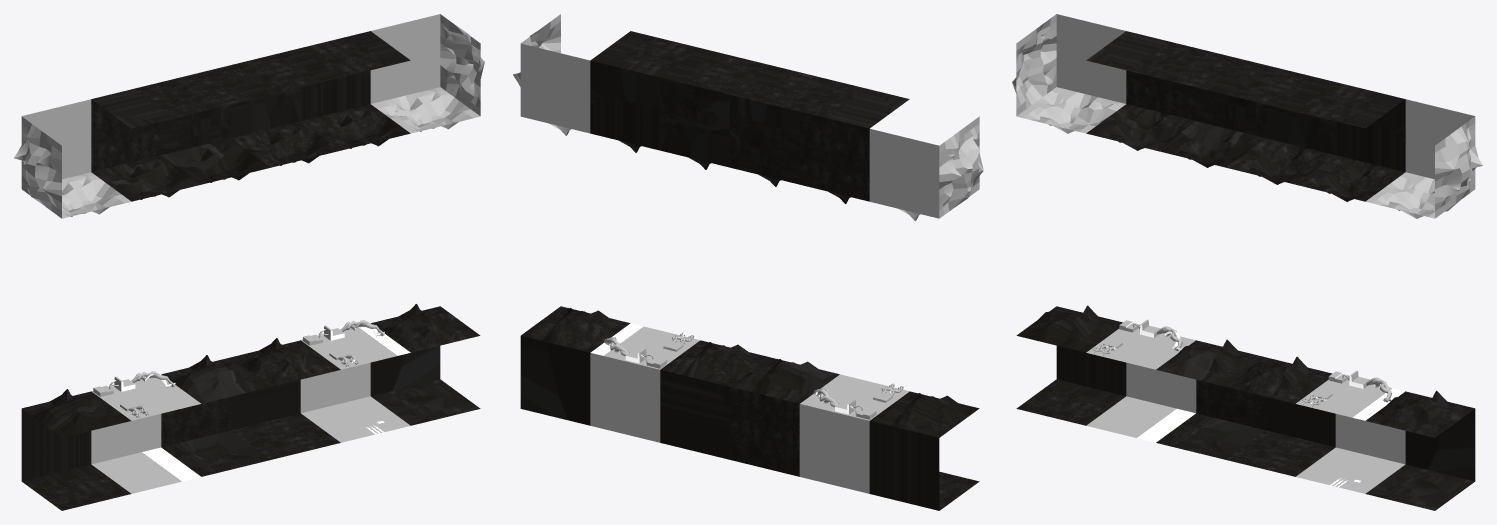
File: Cubi_Corridor2to3.fbx
3 renders of one model, left to right at view 1: azimuth 30°, elevation 25°; view 2: azimuth 150°, elevation 25°; view 3: azimuth 330°, elevation 25°, orthographic.
Parts seen in each view (by area): view 1: Cubes_Corridor2to3; view 2: Cubes_Corridor2to3; view 3: Cubes_Corridor2to3.
Boxes of the visible parts, <box> form: Cubes_Corridor2to3: <box>14,14,484,510</box>; Cubes_Corridor2to3: <box>513,14,983,510</box>; Cubes_Corridor2to3: <box>1012,14,1482,510</box>.
Size of the model in its own units: 645 by 500 by 100.
